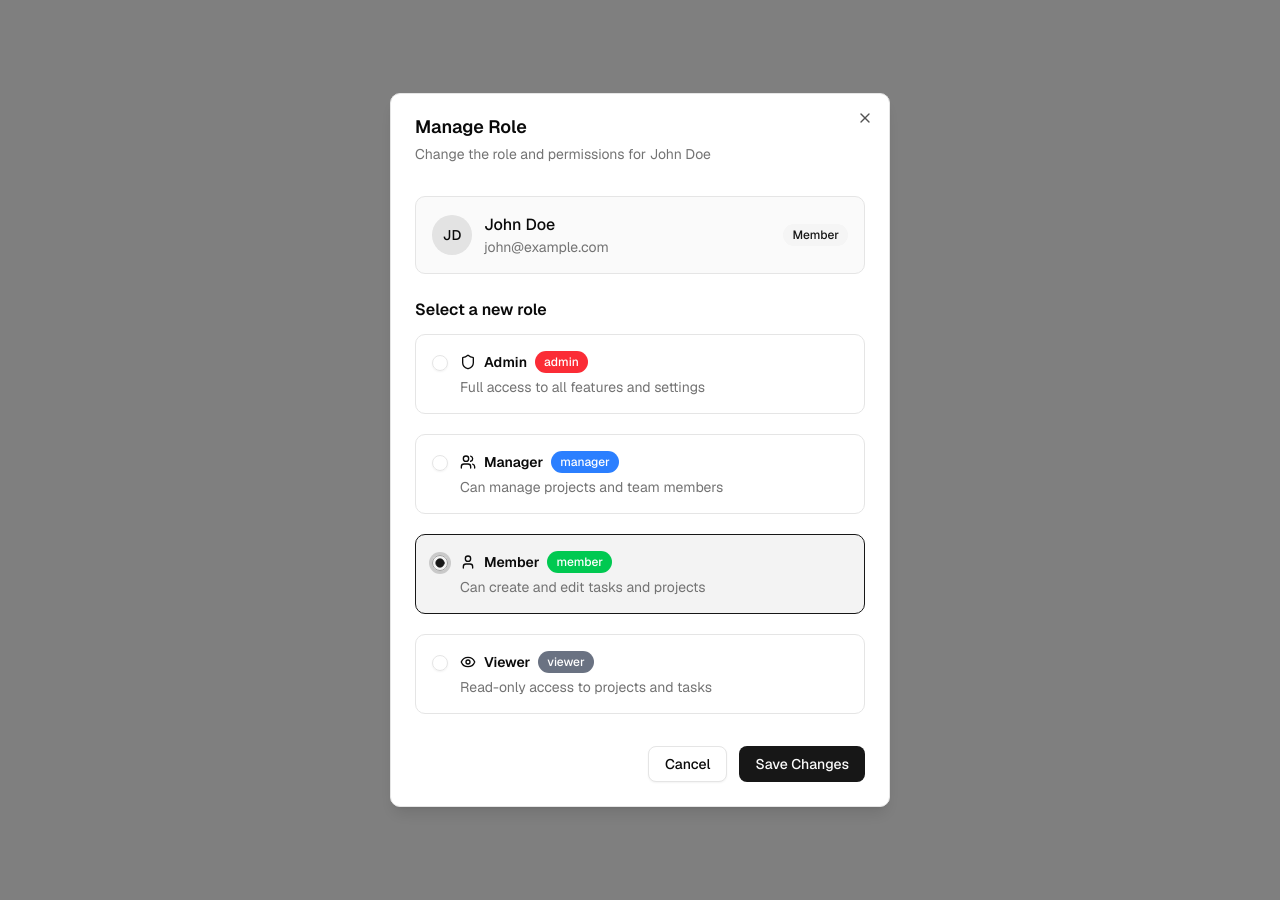
Test case: RoleManagementDialog › shows loading state when submitting
Click the button "Save Changes": coordinates (802, 764) [739,746,865,782]
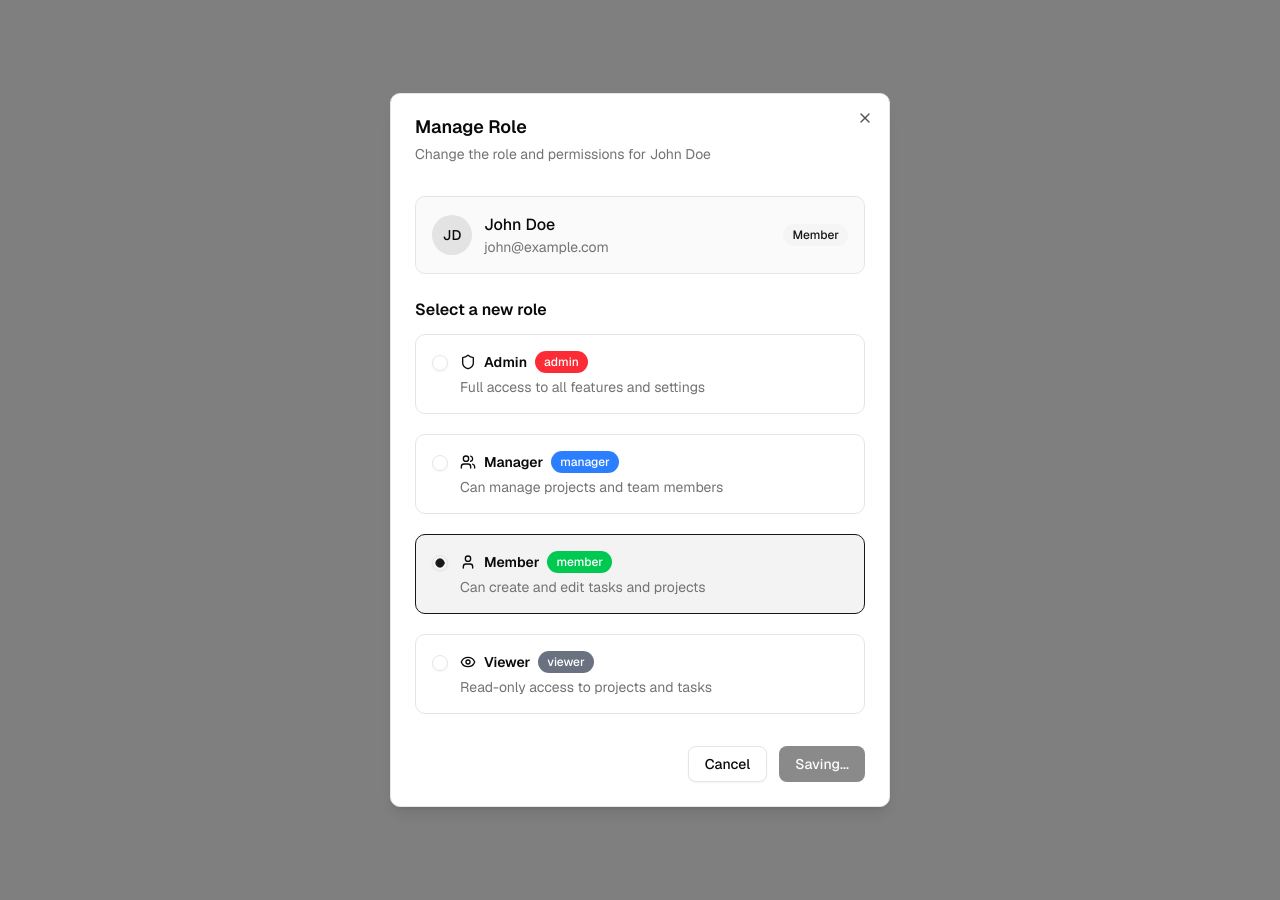
Result: the button "Saving..." is shown at [779,746,865,782]
